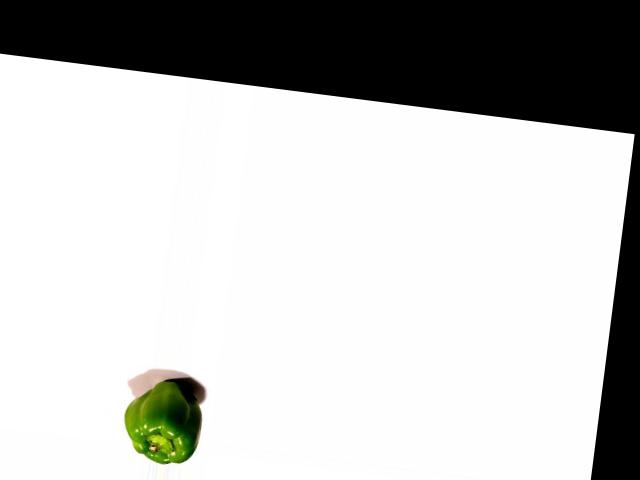bell_pepper: (116, 371, 208, 467)
